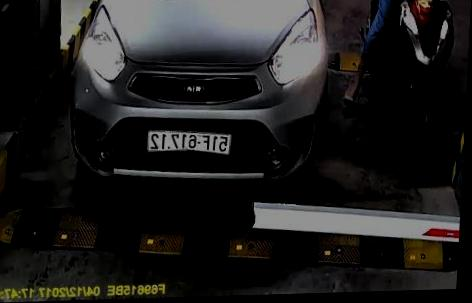License_Plate: (140, 125, 234, 160)
